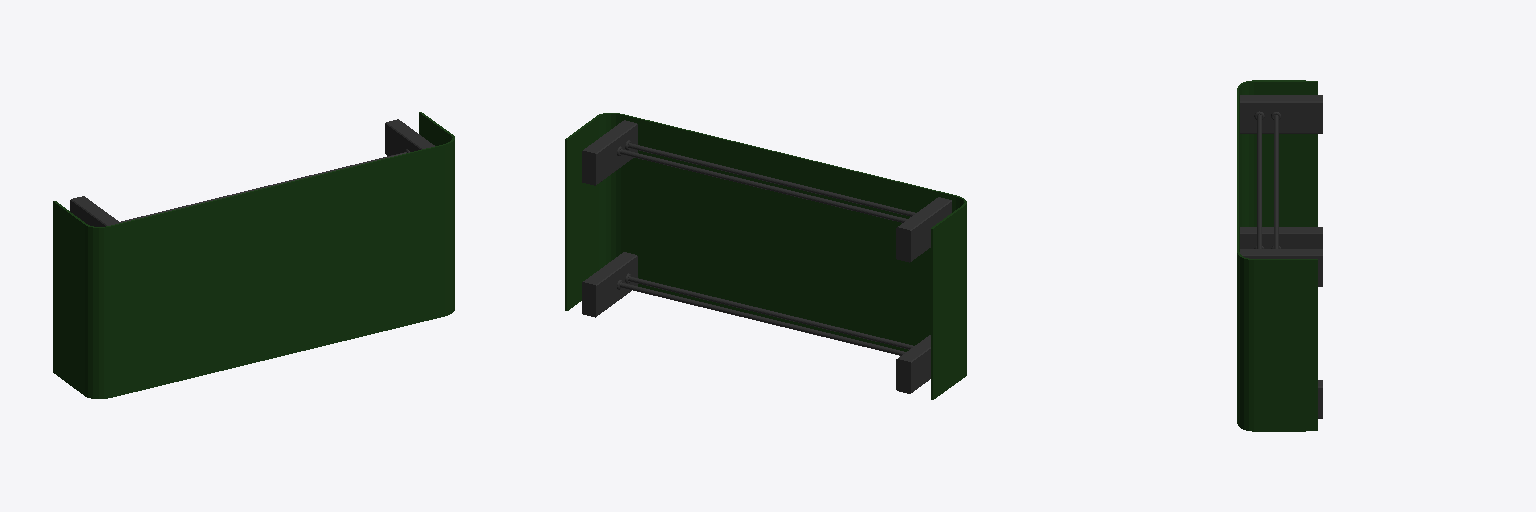
The model's file is Coffeetb.obj.
The picture shows the model from 3 angles: view 1: azimuth 30°, elevation 25°; view 2: azimuth 150°, elevation 25°; view 3: azimuth 270°, elevation 25°; orthographic projection.
Parts seen in each view (by area): view 1: Table_pivot; view 2: Table_pivot; view 3: Table_pivot.
Boxes of the visible parts, box(x1,y1,x2,y2) form: Table_pivot: box(53, 112, 454, 398); Table_pivot: box(565, 113, 966, 399); Table_pivot: box(1237, 80, 1322, 431).
Bounding box in the file's own units: 61.24 × 27.25 × 12.3.